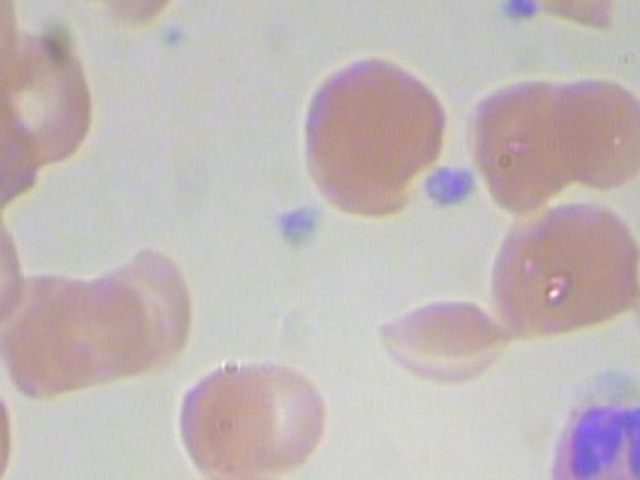Platelets: (533, 389, 640, 480), (422, 158, 486, 218), (267, 197, 333, 252), (495, 0, 545, 24)
RBC: (293, 47, 457, 220), (486, 193, 640, 353), (462, 74, 590, 217), (80, 244, 193, 389), (368, 279, 515, 385), (225, 348, 338, 480), (162, 355, 275, 480), (539, 69, 640, 192), (75, 0, 188, 33), (633, 255, 640, 368)
